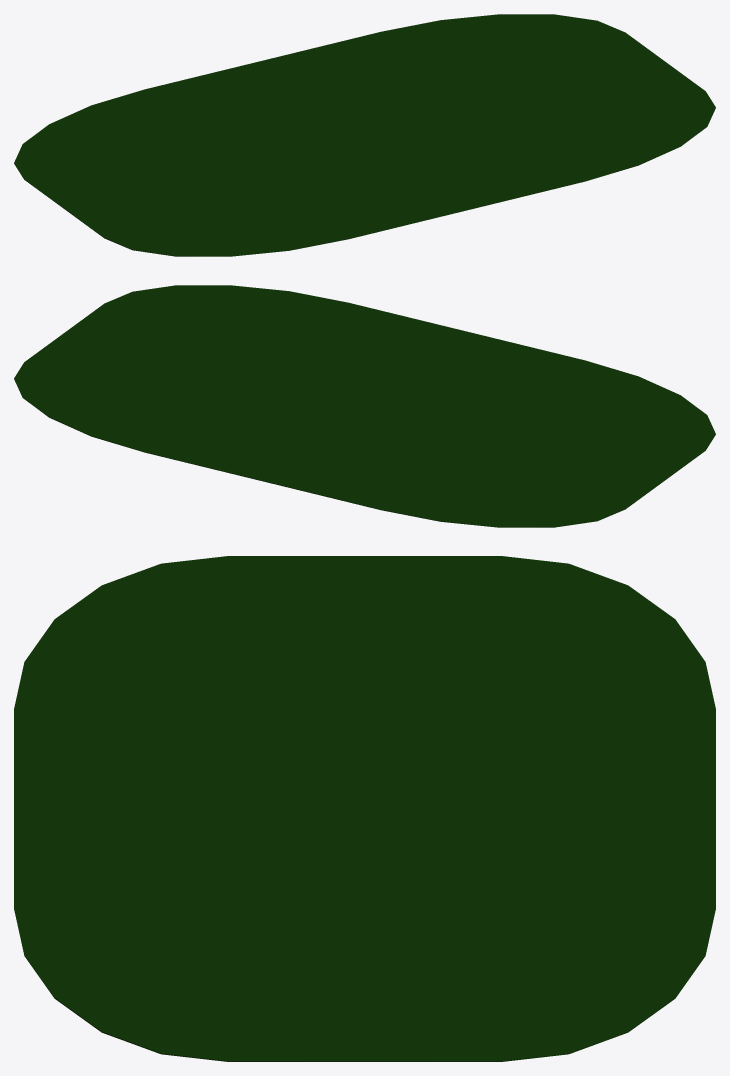
Rendered from table cloth.fbx.
The picture shows the model from 3 angles, top to bottom: view 1: azimuth 30°, elevation 25°; view 2: azimuth 150°, elevation 25°; view 3: azimuth 270°, elevation 25°; orthographic projection. The views are drawn at different scales.
Parts seen in each view (by area): view 1: Cube; view 2: Cube; view 3: Cube.
Boxes of the visible parts, bbox=[...] form: Cube: bbox=[14, 14, 715, 256]; Cube: bbox=[14, 285, 715, 527]; Cube: bbox=[14, 556, 715, 1061].
Bounding box in the file's own units: 1388 × 1.15 × 816.
